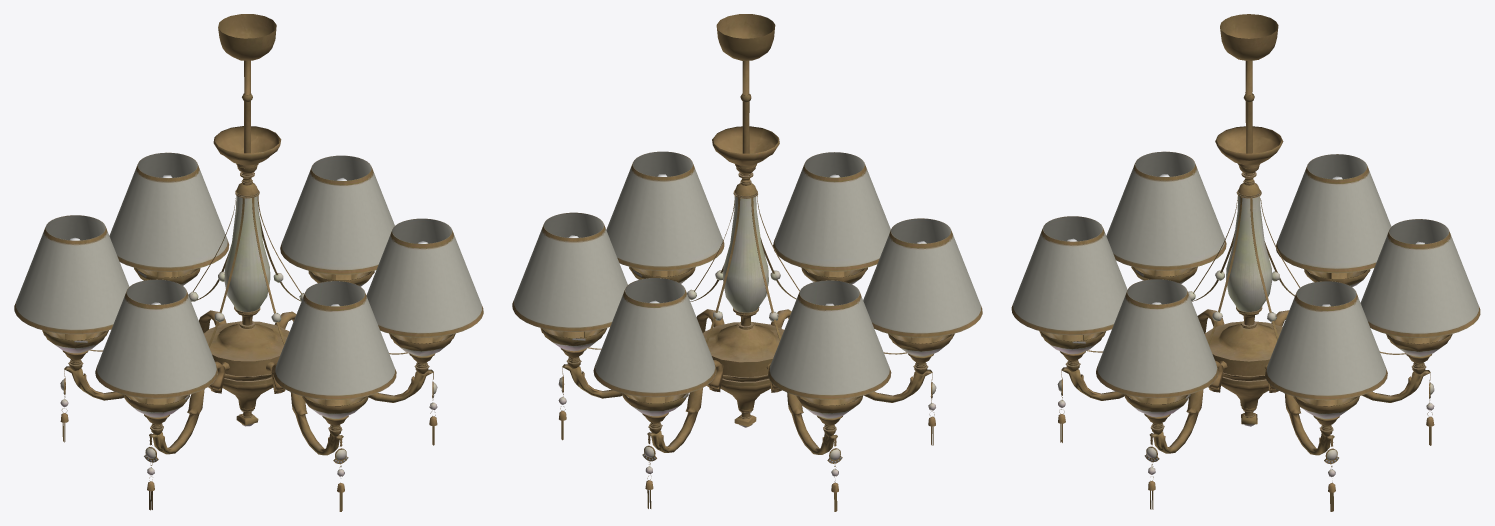
The model's file is chandelier.glb.
The picture shows the model from 3 angles, left to right: view 1: azimuth 30°, elevation 25°; view 2: azimuth 150°, elevation 25°; view 3: azimuth 270°, elevation 25°; orthographic projection.
Parts seen in each view (by area): view 1: Chandelier_01; view 2: Chandelier_01; view 3: Chandelier_01.
Part boxes in pixels (left/top/right/bottom): Chandelier_01: left=14, top=14, right=483, bottom=511; Chandelier_01: left=512, top=14, right=982, bottom=511; Chandelier_01: left=1011, top=14, right=1480, bottom=511.
Bounding box in the file's own units: 1.08 × 1.15 × 1.17.
Materials: 2 (1 with a texture image).
